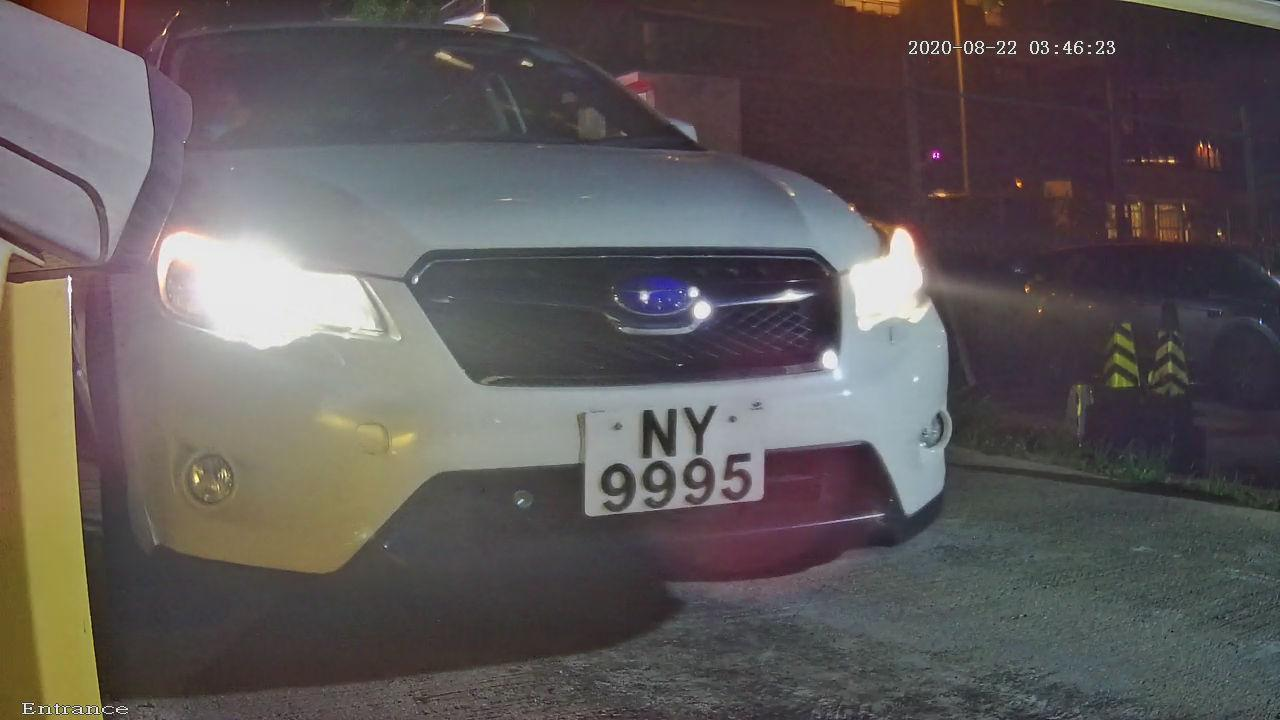Car: (1, 1, 1023, 653)
License Plate: (561, 380, 778, 534)
